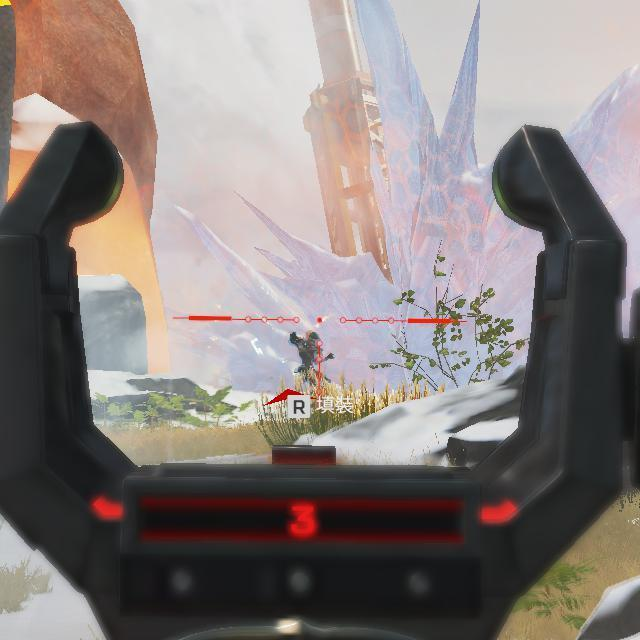avatar: (288, 330, 323, 394)
